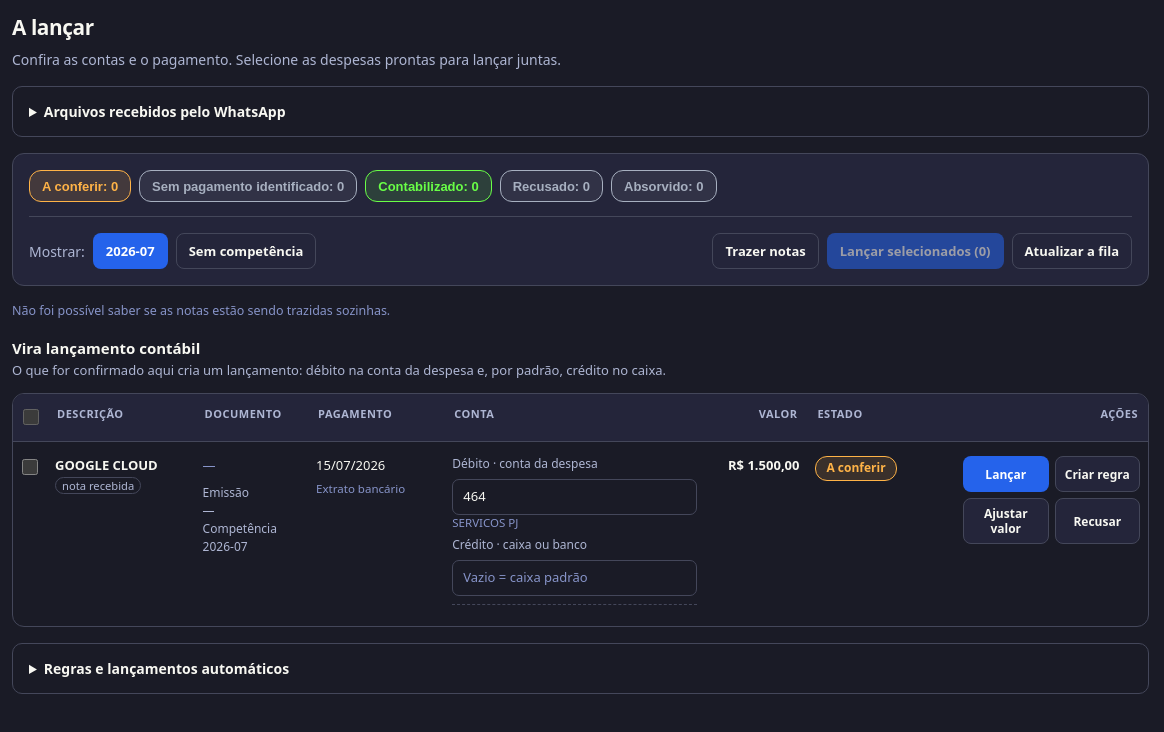
Test: ⚠⚠ o CRÉDITO na própria linha — o «Contas…» saiu, o campo desceu (02/09/2026) › ⚠⚠⚠ crédito que NÃO é disponibilidade trava o envio, com o motivo VISÍVEL
In the field named "Conta de crédito de GOOGLE CLOUD": point(575, 578) [452,560,697,596], type "300"
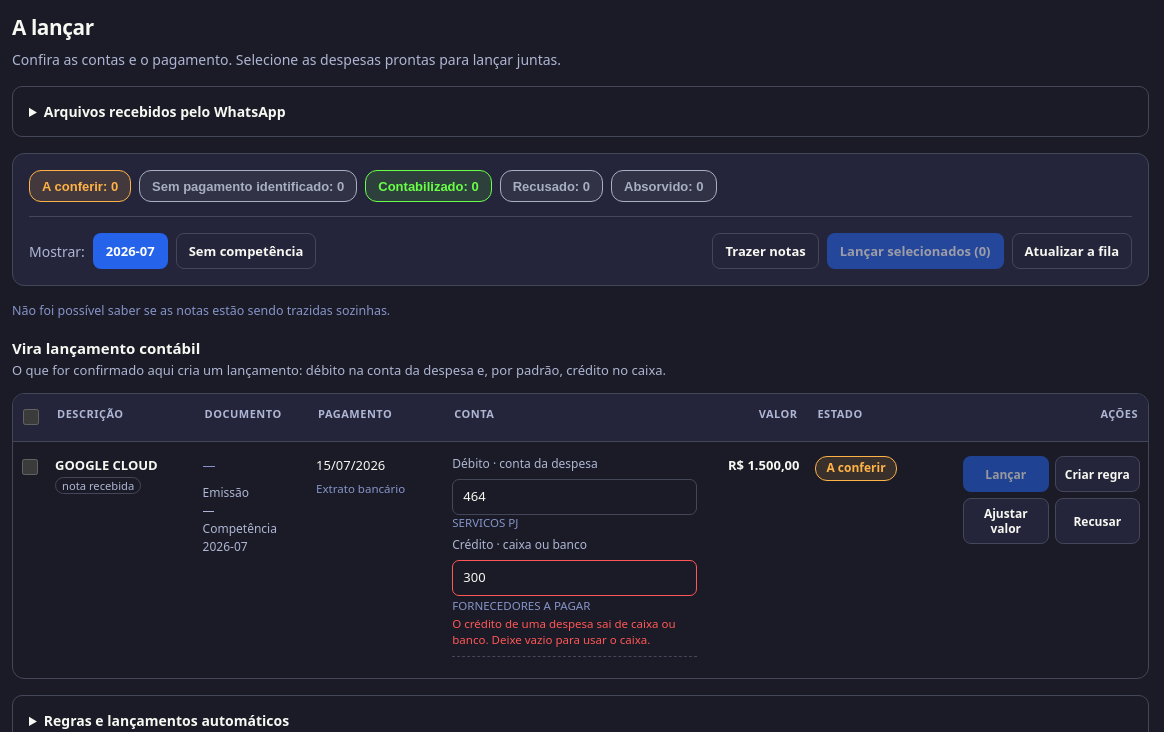
Expected: the text "sai de caixa ou banco" is shown, [452,616,676,647]
Expected: the button "Lançar" is disabled, [963,456,1048,492]
